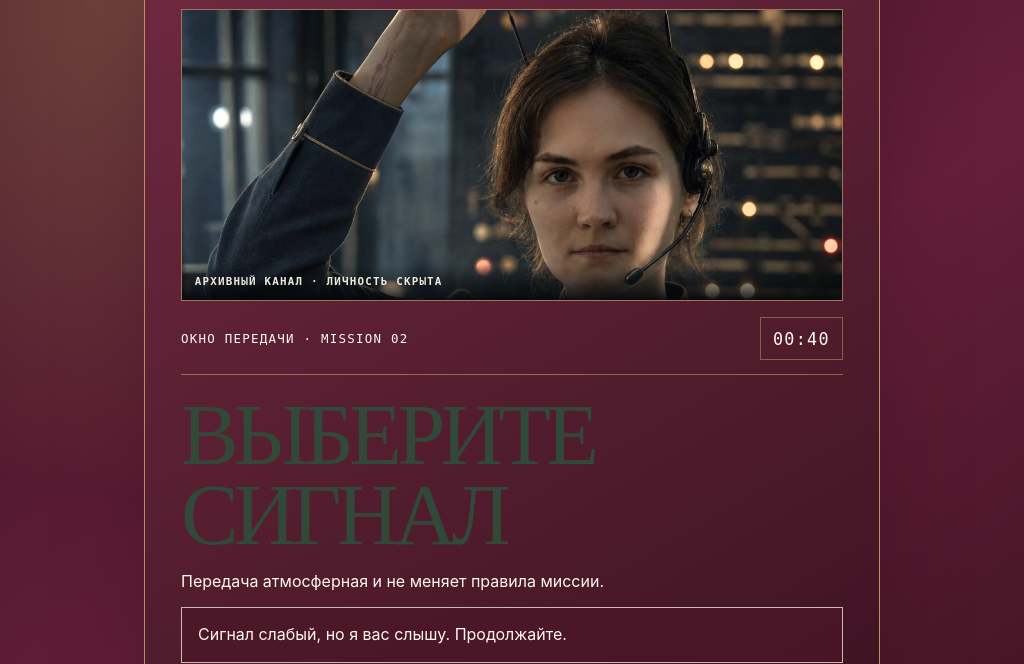
Test: LizaBunkerOperatorPanel › does not let a submit result roll a later revealed transition back to an active stage
Click the button "Сигнал слабый, но я вас слышу. Продолжайте.".
click(512, 635)  # box x1=181 y1=607 x2=843 y2=663
(page scrolled)
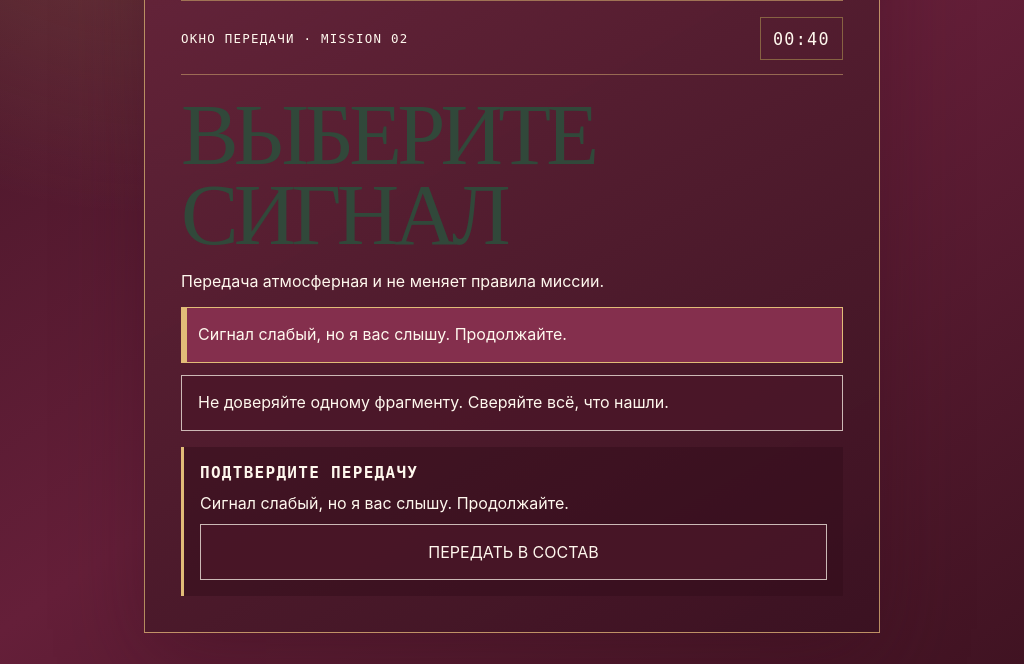
Click the button "ПЕРЕДАТЬ В СОСТАВ".
click(514, 552)  # box x1=200 y1=524 x2=827 y2=580
(page scrolled)
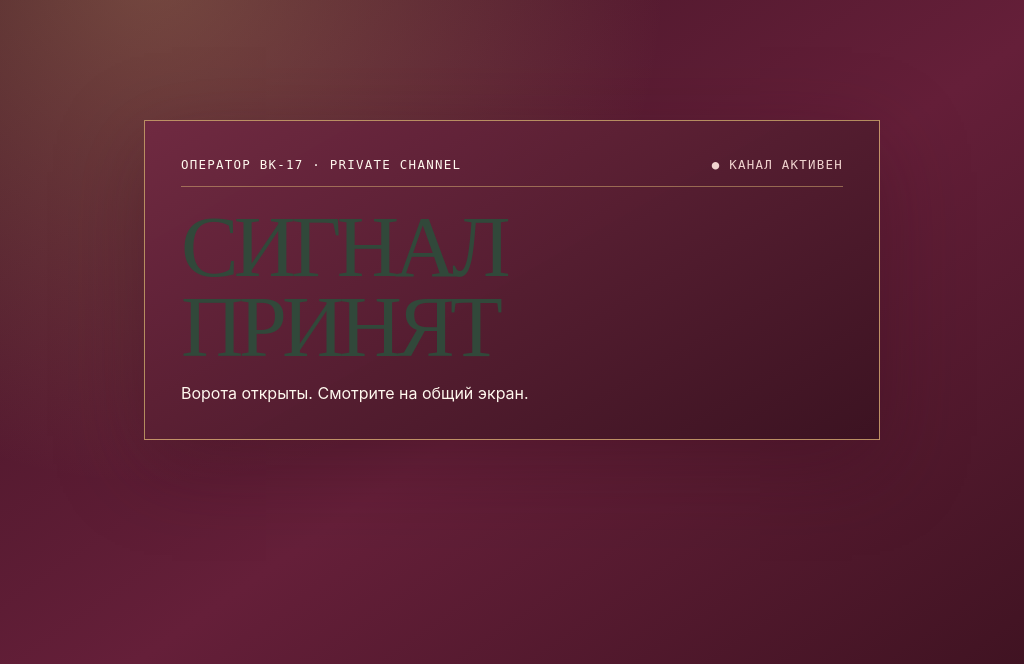
Now the heading "СИГНАЛ ПРИНЯТ" is shown, box x1=181 y1=199 x2=506 y2=375
Now the heading "ВЫБЕРИТЕ СИГНАЛ" is gone
